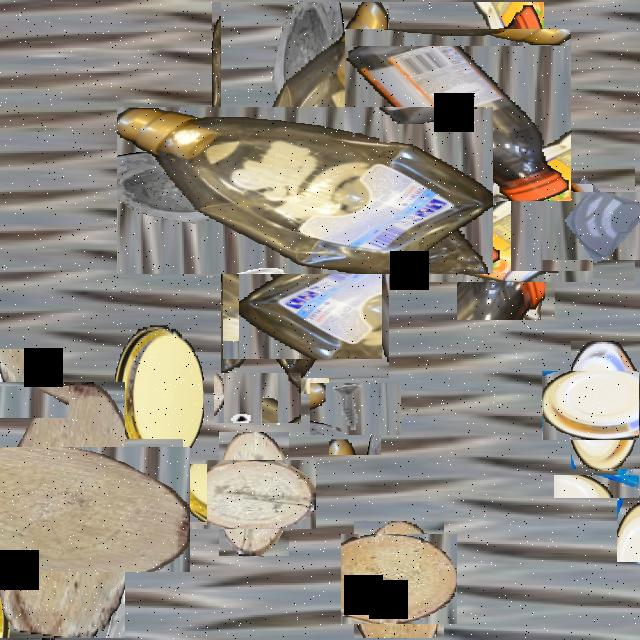glass: (240, 252, 364, 377), (554, 178, 640, 273), (585, 443, 640, 530)
metal: (109, 451, 195, 537), (319, 373, 391, 445), (222, 363, 292, 433), (173, 200, 240, 266), (0, 367, 51, 436)
plastic: (169, 54, 441, 326), (358, 16, 558, 215), (438, 165, 574, 301), (115, 325, 203, 464), (212, 2, 286, 126), (556, 356, 640, 454)
wood: (0, 414, 157, 605), (347, 528, 451, 631), (205, 445, 302, 543)
